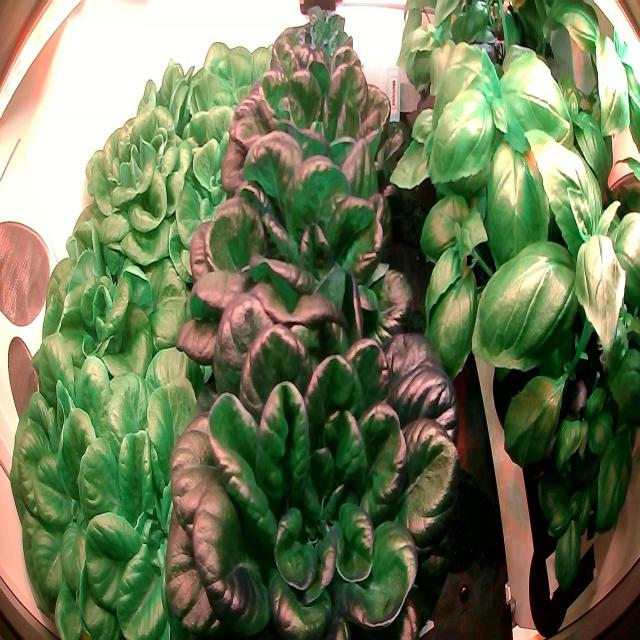Ready: (148, 270, 474, 640), (170, 124, 446, 429), (76, 351, 239, 632), (225, 44, 414, 262), (9, 352, 152, 640), (43, 189, 169, 381), (134, 212, 254, 381), (80, 104, 188, 267), (172, 112, 278, 271), (261, 0, 379, 137), (131, 48, 224, 202), (192, 40, 280, 183)
